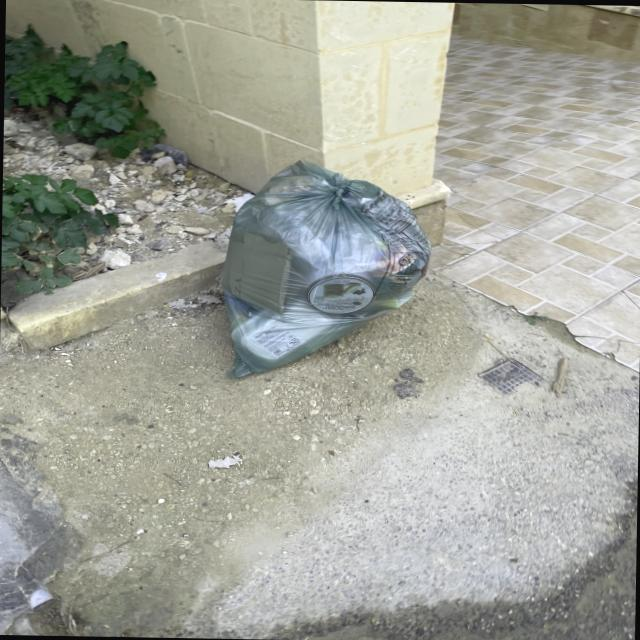grey_bag: (213, 154, 438, 386)
